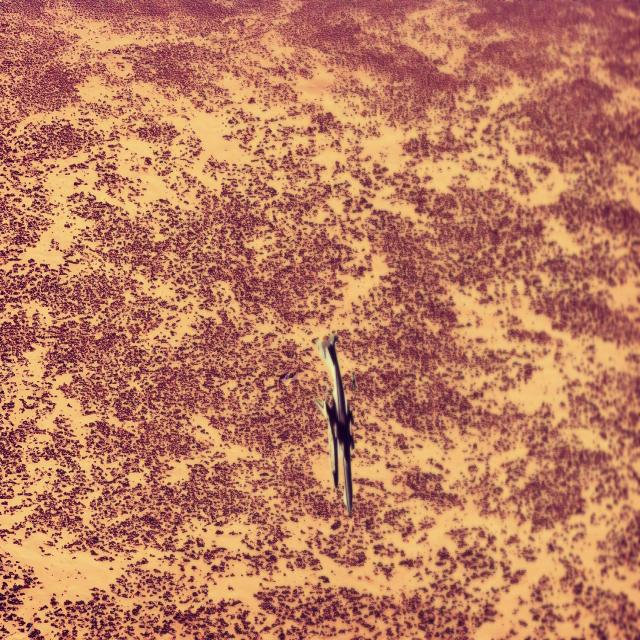airplane: (313, 333, 356, 516)
